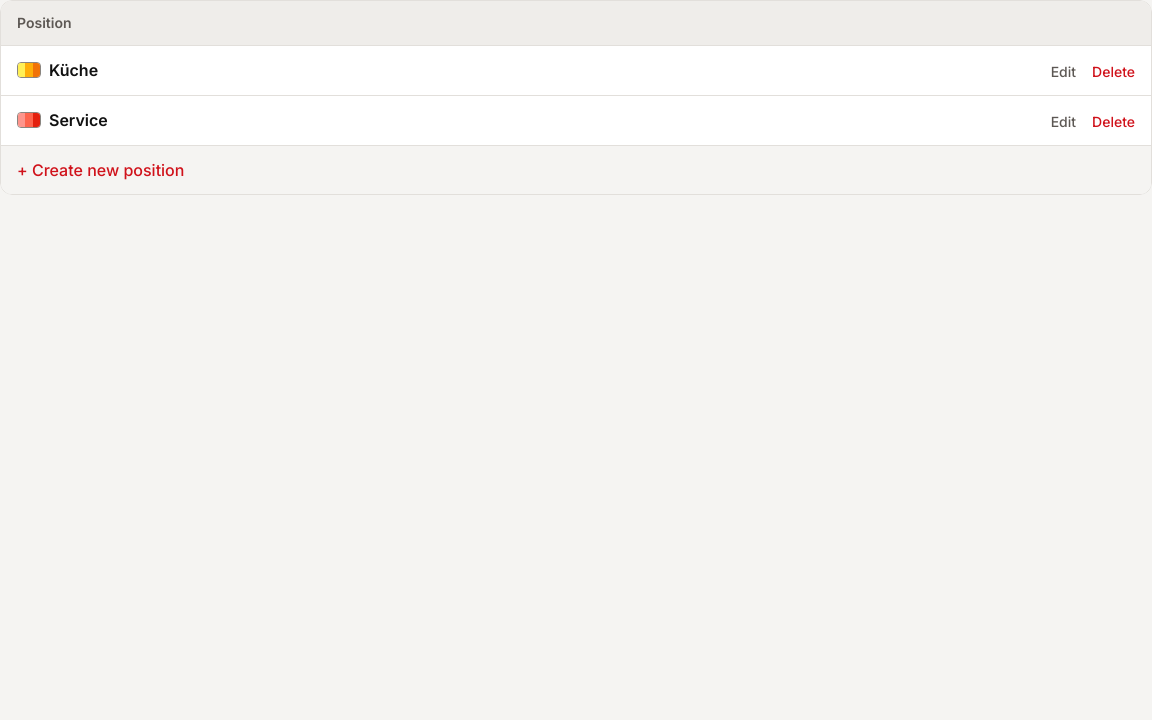
Test: PositionList › opens the delete window for the row's position, and closes it on Cancel
Step 1. Click the button with aria-label "Delete Küche" → (1114, 72), box [1092,62,1135,82]
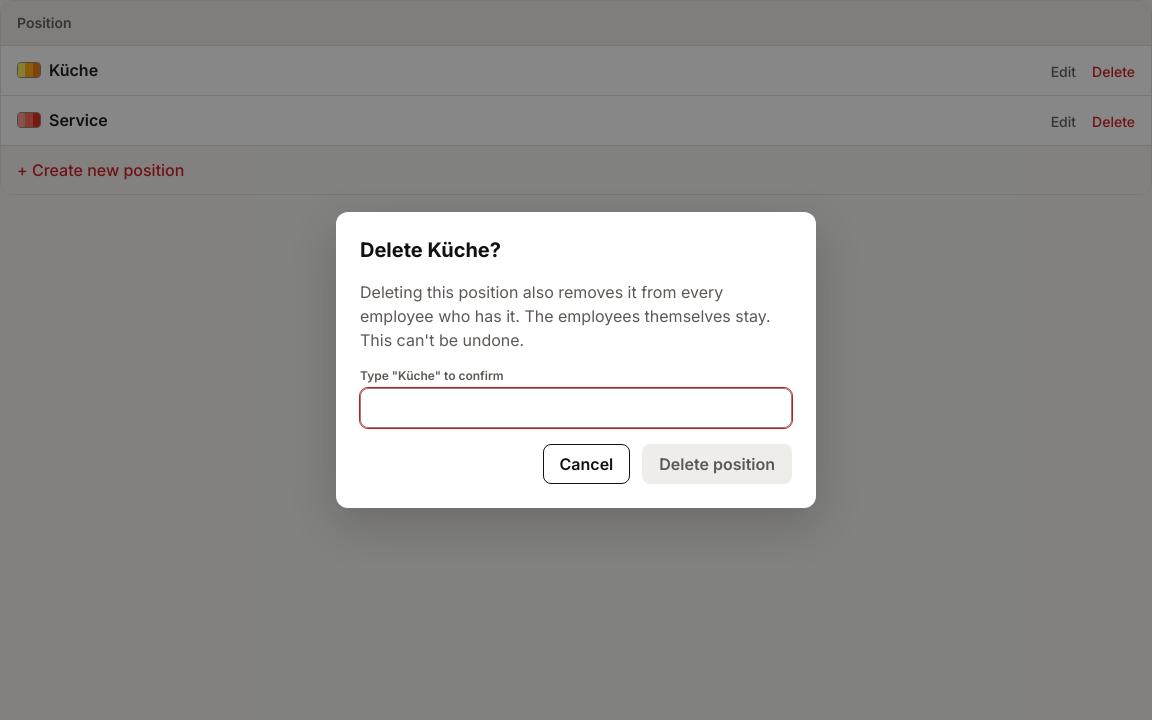
Expected: the dialog "Delete Küche?" is shown, [336,212,816,508]
Step 2. Click the button "Cancel" → (586, 464), box [542,444,630,484]
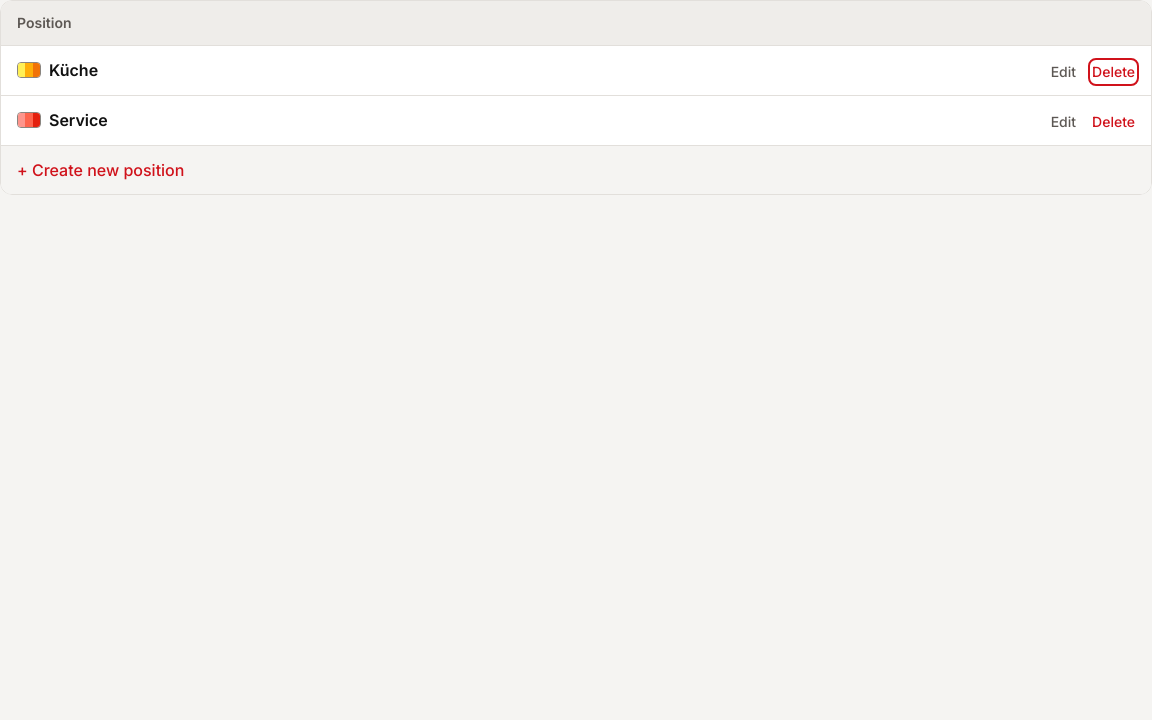
Expected: the column heading "Küche" is shown, [1,46,1019,96]
Expected: the dialog is gone
